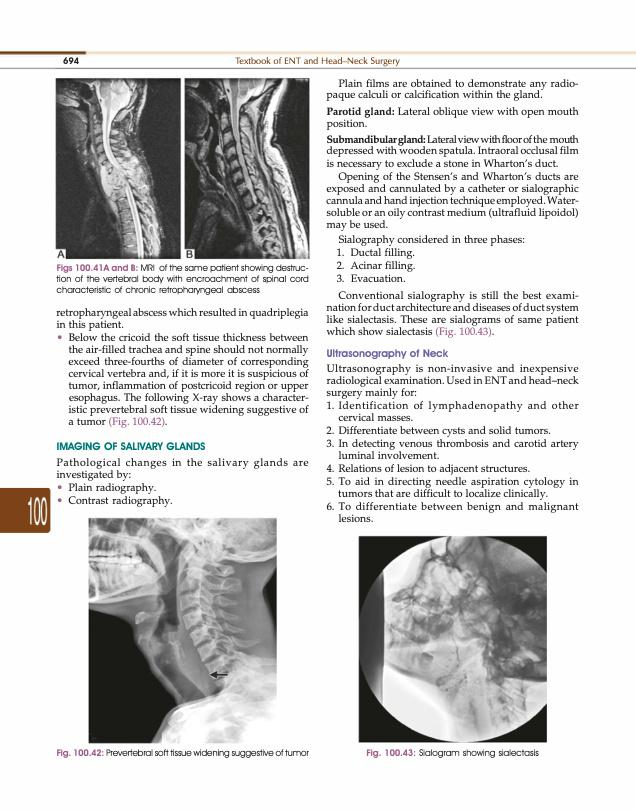caption: (55, 262, 310, 296), (56, 747, 310, 759), (365, 747, 539, 759), (56, 249, 66, 259), (185, 249, 194, 259)
header: (234, 56, 400, 67)
image: (87, 517, 278, 745), (357, 534, 549, 744), (55, 77, 182, 260), (184, 77, 310, 259)
list: (325, 399, 580, 524), (55, 482, 174, 509), (335, 247, 416, 284)
section-heading: (56, 441, 207, 451)
sub-section-heading: (326, 348, 449, 359), (326, 134, 426, 146), (326, 106, 395, 118)
text: (325, 77, 579, 246), (55, 306, 309, 429), (326, 290, 579, 338), (325, 362, 579, 399), (55, 455, 309, 481)
